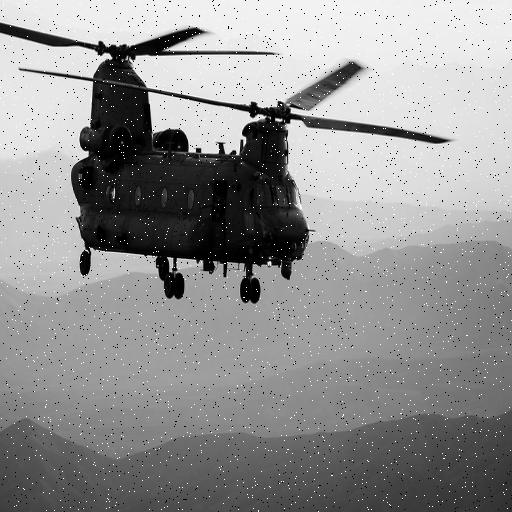helicopter: (1, 1, 458, 301)
